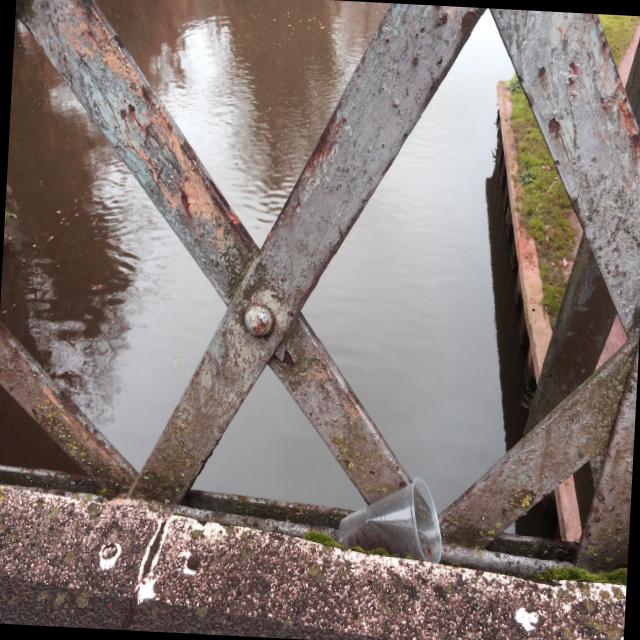less trash: (337, 477, 442, 563)
